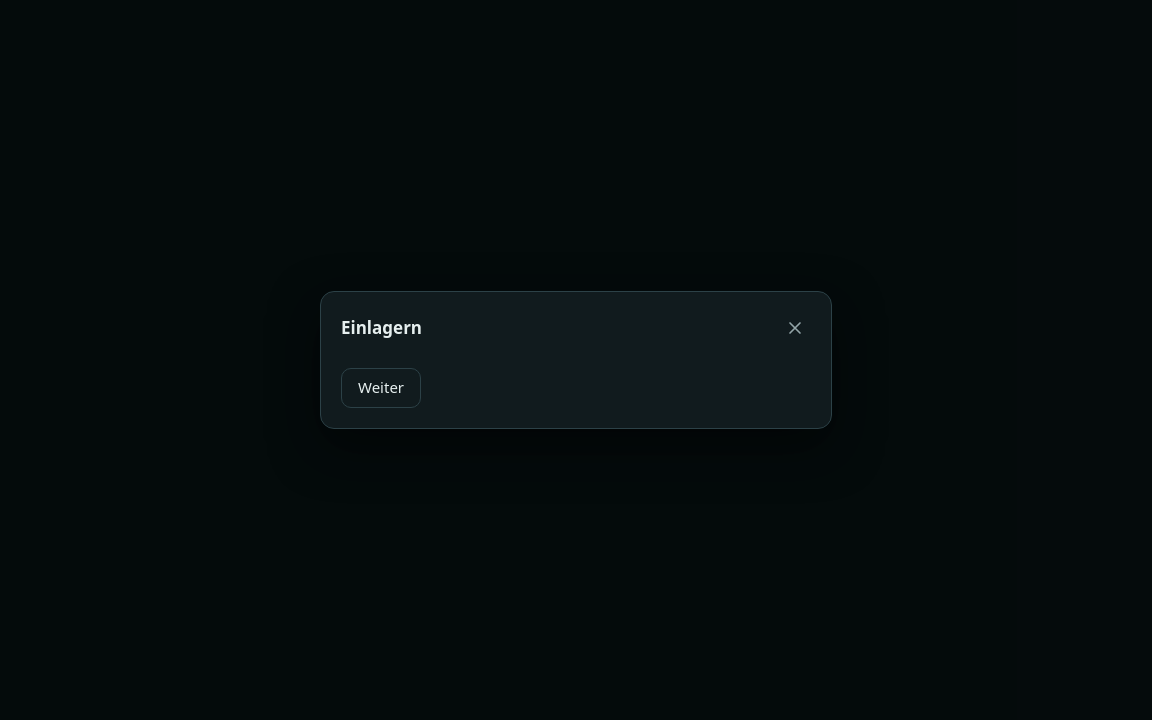
Test: Dialog › nimmt den Fokus wieder auf, wenn im offenen Dialog das Element verschwindet, das ihn hatte
Click the button "Weiter". click: (381, 388)
box: [341,368,421,408]
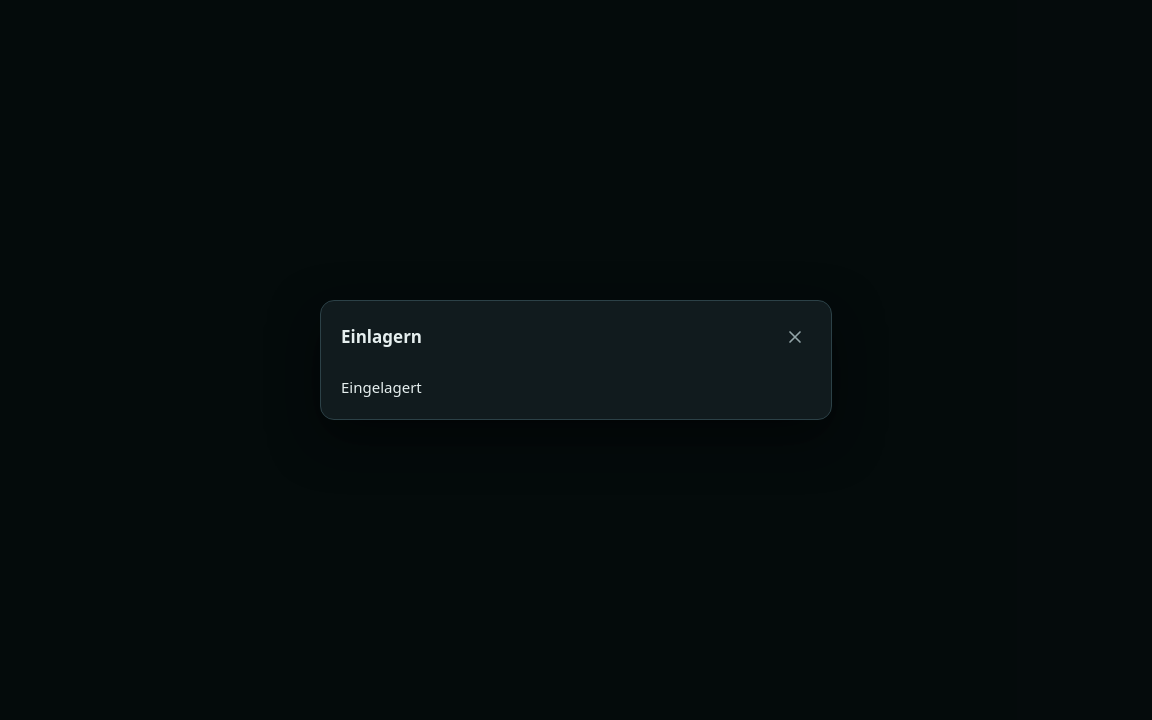
Now the text "Eingelagert" is shown, box [341,377,422,397]
